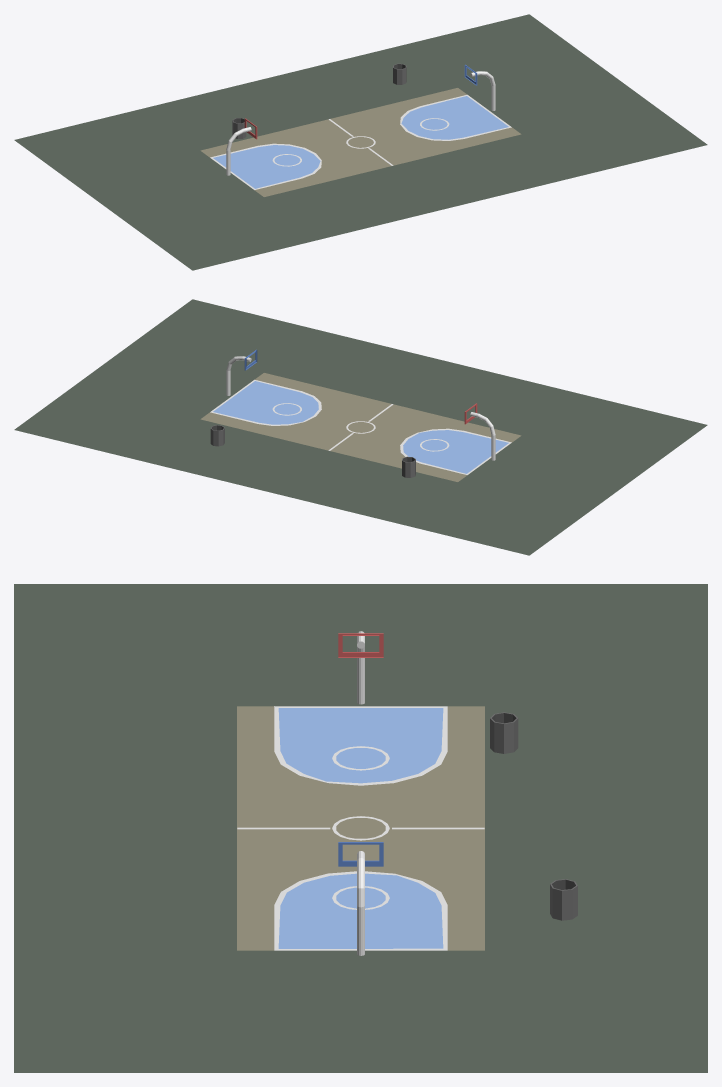
The model's file is stage19.glb.
3 renders of one model, top to bottom at view 1: azimuth 30°, elevation 25°; view 2: azimuth 150°, elevation 25°; view 3: azimuth 270°, elevation 25°, orthographic. The views are drawn at different scales.
Parts seen in each view (by area): view 1: Ground, Cylinder.001, Cylinder; view 2: Ground, Cylinder.001, Cylinder; view 3: Ground, Cylinder, Cylinder.001, Torus.001, Cylinder.002, Cylinder.003, Torus.002.
Part boxes in pixels (box(x1,y1,x2,y2)): Ground: box(14, 14, 707, 270); Cylinder.001: box(400, 94, 511, 140); Cylinder: box(210, 143, 321, 189); Ground: box(14, 299, 707, 555); Cylinder.001: box(210, 379, 321, 425); Cylinder: box(400, 428, 511, 474); Ground: box(14, 584, 707, 1072); Cylinder: box(274, 706, 447, 785); Cylinder.001: box(274, 871, 447, 950); Torus.001: box(338, 842, 383, 955); Cylinder.002: box(490, 712, 518, 753); Cylinder.003: box(550, 879, 577, 920); Torus.002: box(338, 631, 383, 704).
Size of what is drawn, in the model's own units: 70 by 8.05 by 42.
